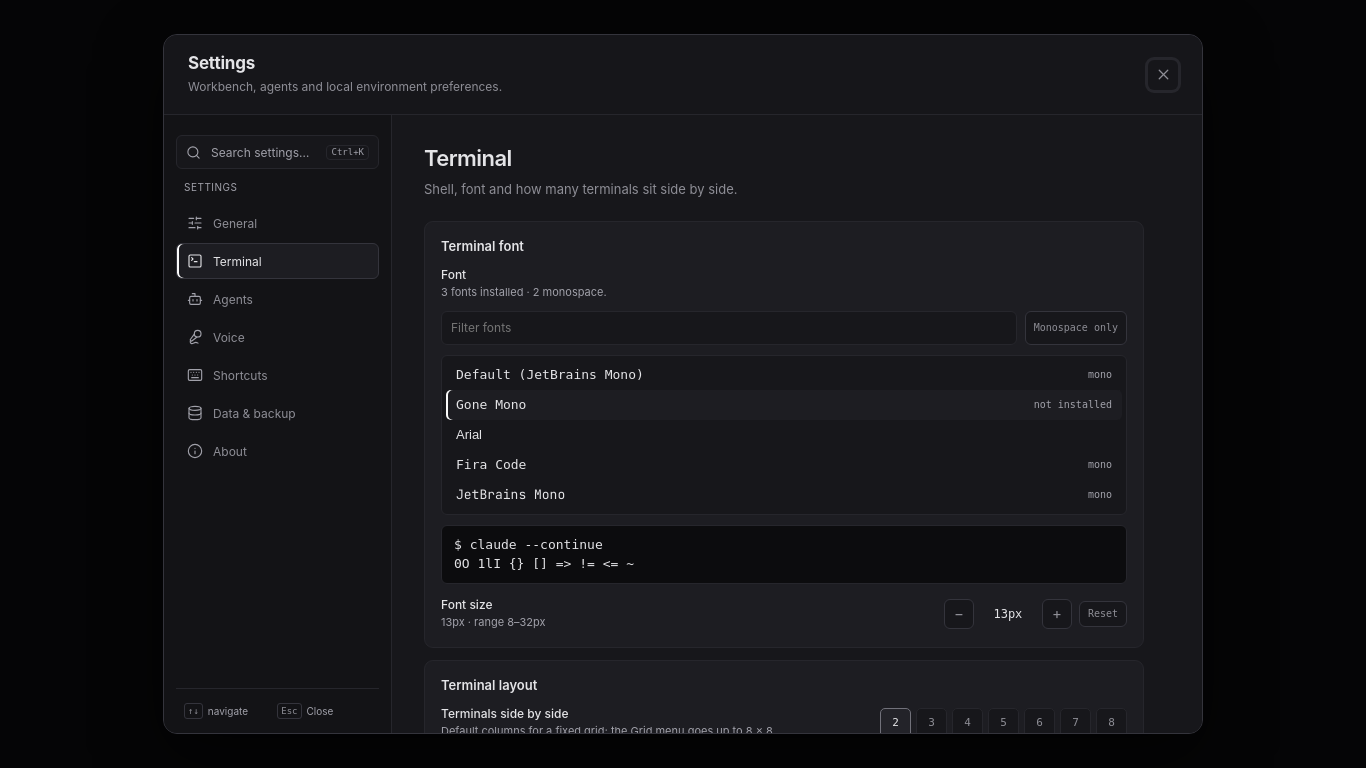
it: SettingsSectionPanel terminal › Given a saved font that is no longer installed, when the filter matches nothing, then it is flagged and an empty message shows
This screenshot has width=1366, height=768.
Check: the option "Gone Mono not installed" is shown, box [446, 390, 1122, 420]
In the search field labelled "Filter fonts": point(729, 328) [441, 311, 1017, 345], type "zzz"
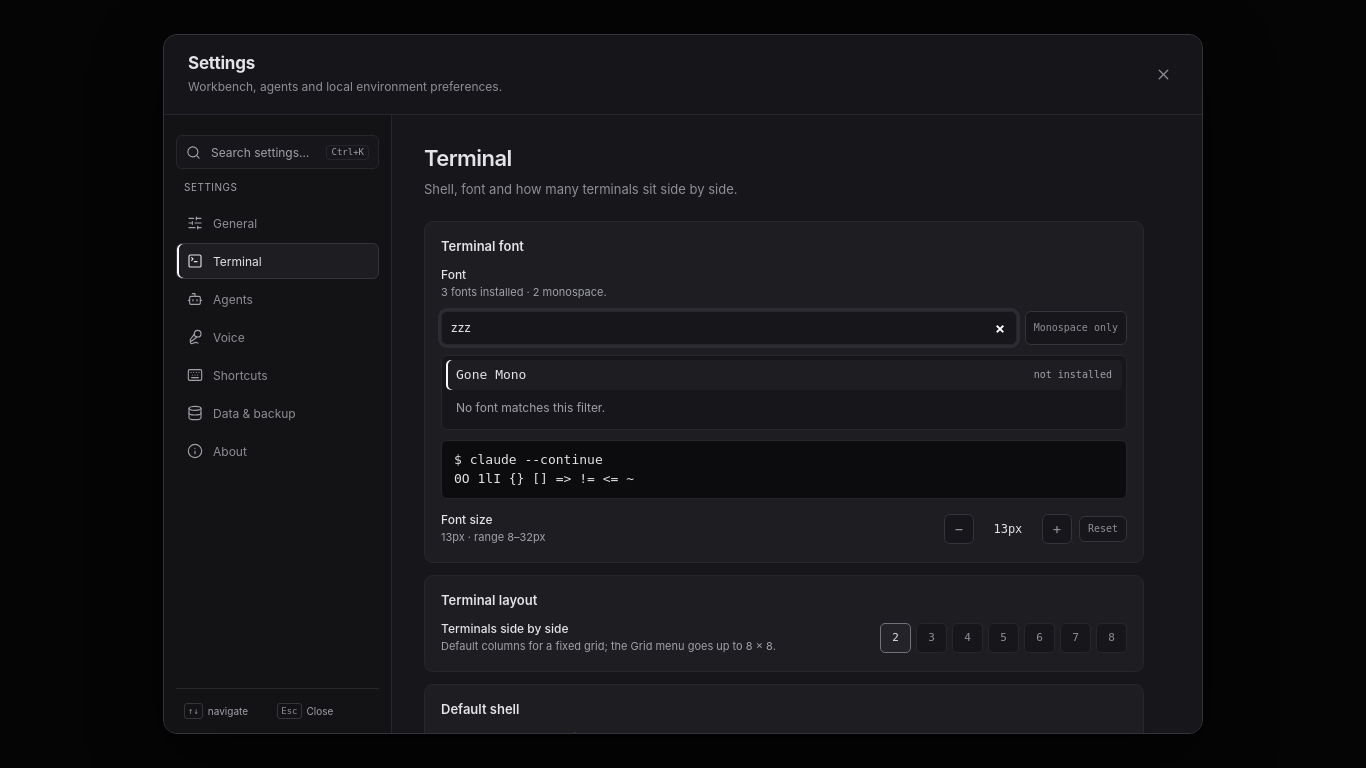
Check: the text "No font matches this filter." is shown, box [456, 400, 605, 415]
